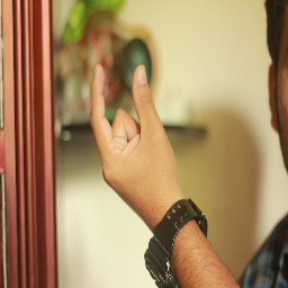U: (85, 56, 174, 195)
